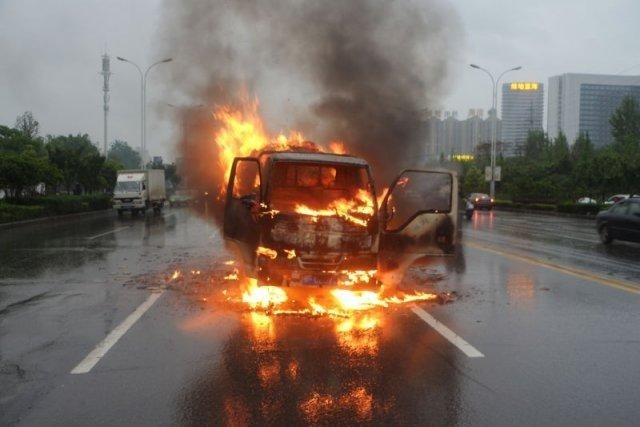fire: (211, 97, 393, 225)
